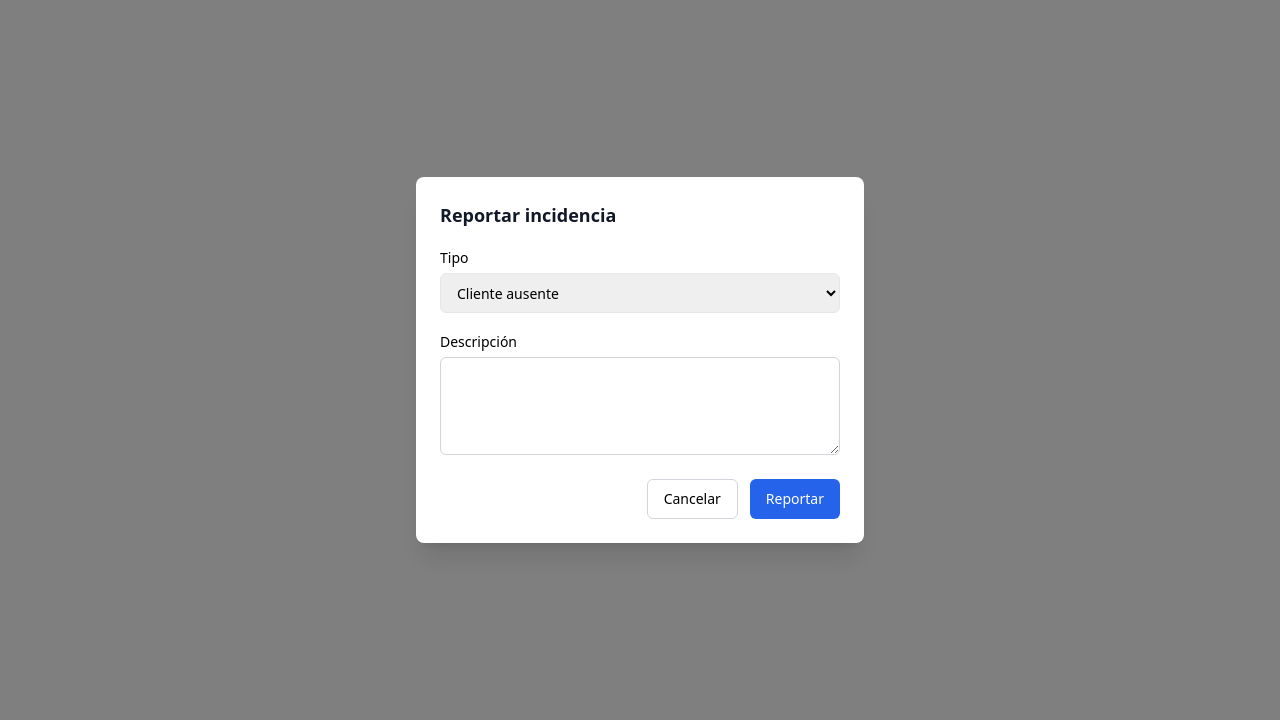
R1 - debe enviar { envioId, tipo, descripcion } y mostrar confirmación en éxito › no envía la incidencia y muestra un error inline si la descripción está vacía
Click the button "Reportar" at (795, 499), box [750,479,840,519]
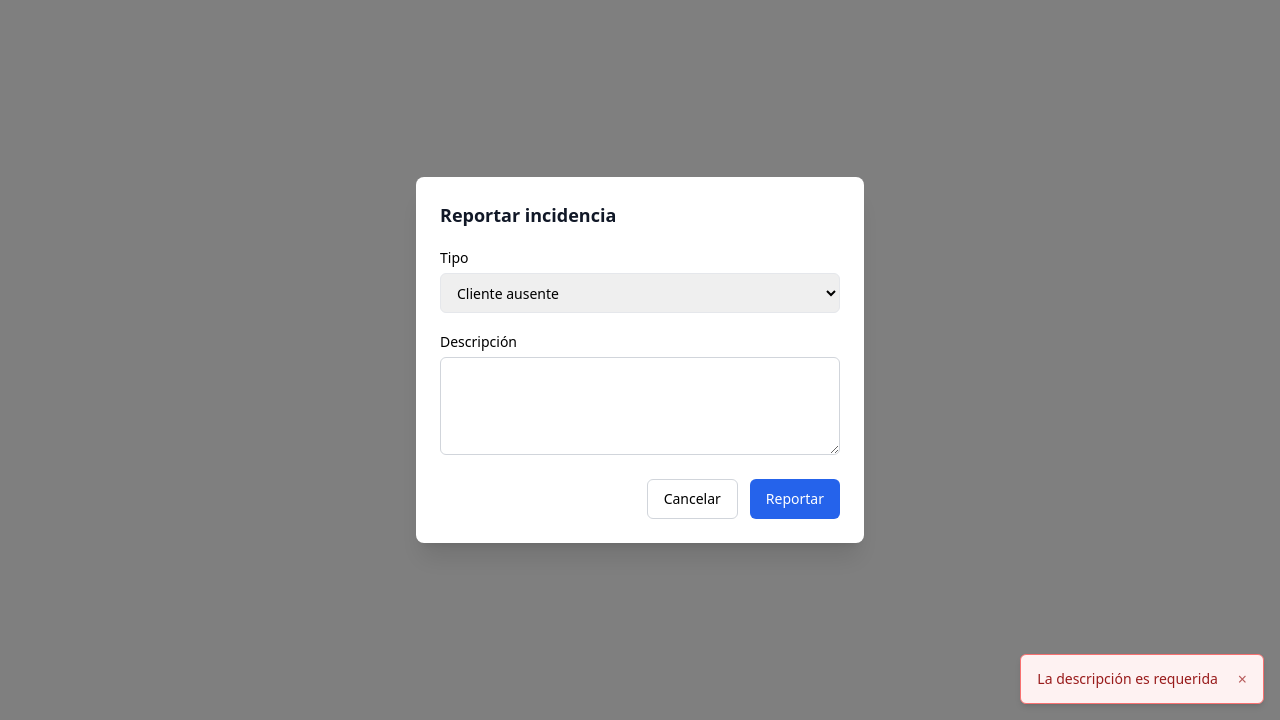
Expected: the message shows "La descripción es requerida", [1037,669,1218,688]
